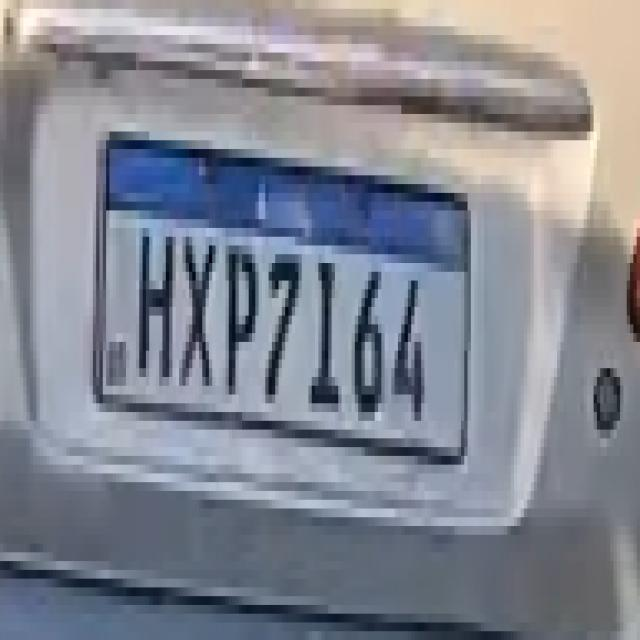Placa_mercosul_carro: (91, 125, 468, 468)
